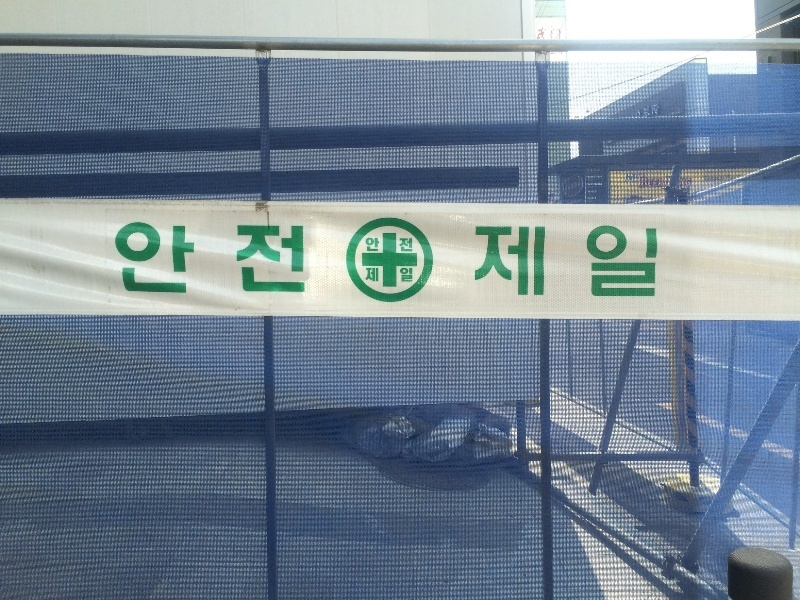text: (113, 222, 128, 298), (129, 222, 144, 298), (145, 222, 160, 298), (161, 222, 176, 298), (177, 222, 192, 298), (193, 222, 208, 298), (209, 222, 224, 298), (225, 222, 240, 298), (241, 222, 256, 298), (257, 222, 272, 298), (273, 222, 288, 298), (289, 222, 304, 298), (481, 225, 496, 300), (497, 225, 512, 300), (513, 225, 528, 300), (529, 225, 544, 300), (545, 225, 560, 300), (561, 225, 576, 300), (577, 225, 592, 300), (593, 225, 608, 300), (609, 225, 624, 300), (625, 225, 640, 300), (641, 225, 656, 300), (369, 234, 384, 287), (385, 234, 400, 287), (401, 234, 416, 287), (472, 225, 480, 300), (362, 234, 368, 287), (305, 222, 308, 298), (545, 28, 561, 40), (401, 268, 413, 283), (641, 177, 656, 189), (401, 238, 413, 252), (369, 238, 380, 252), (626, 173, 640, 184), (657, 225, 659, 300), (369, 268, 379, 283), (641, 105, 651, 119), (565, 181, 576, 192), (705, 176, 720, 184), (721, 176, 736, 184), (679, 177, 688, 189), (650, 100, 656, 117), (634, 105, 640, 119), (537, 28, 544, 40), (657, 177, 664, 189), (665, 176, 672, 188), (626, 199, 640, 204), (566, 198, 576, 204), (577, 181, 582, 192), (417, 234, 418, 287), (657, 100, 660, 117), (593, 182, 603, 187), (593, 167, 601, 173), (577, 198, 584, 204), (737, 176, 742, 184), (593, 176, 603, 180), (689, 177, 692, 189), (586, 167, 592, 173), (586, 189, 592, 195), (585, 182, 592, 187), (366, 268, 368, 283), (550, 52, 560, 55), (593, 189, 598, 195), (586, 196, 592, 201), (366, 238, 368, 252), (641, 173, 646, 178), (593, 196, 598, 201), (586, 176, 592, 180), (702, 176, 704, 184), (399, 238, 400, 252), (641, 173, 642, 184), (641, 199, 643, 204), (561, 52, 563, 55)
